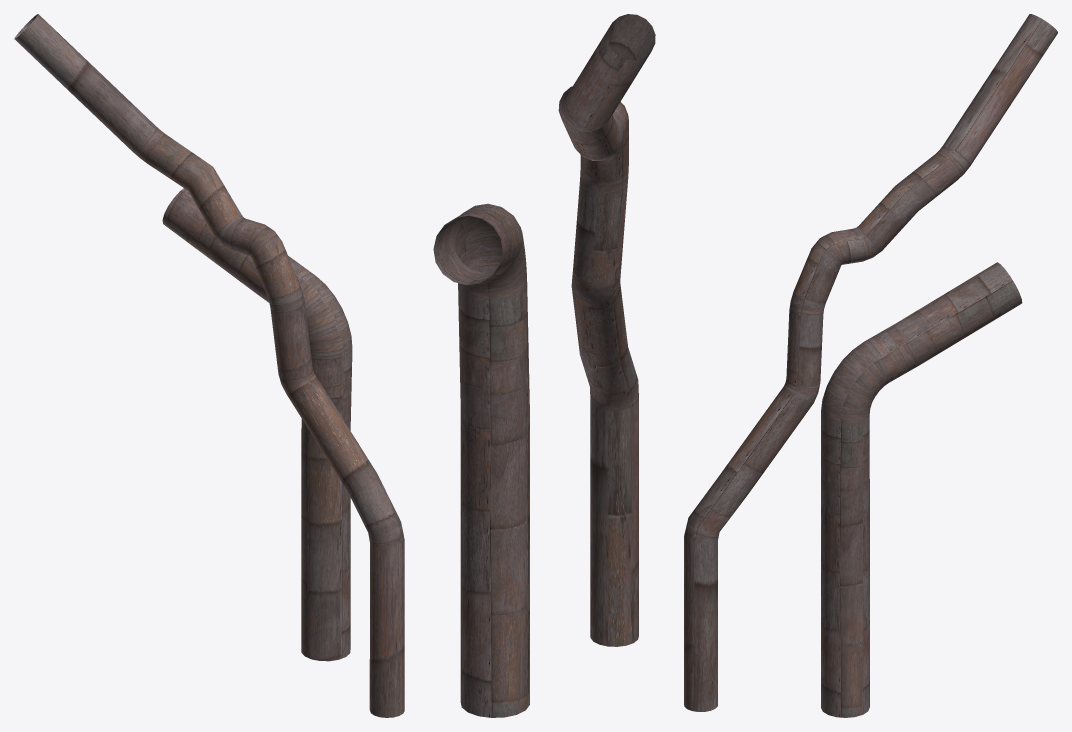
The model's file is SM_Bergstadt_Pipes_00.fbx.
3 views of the same model, side by side, from view 1: azimuth 30°, elevation 25°; view 2: azimuth 150°, elevation 25°; view 3: azimuth 270°, elevation 25° (orthographic). The views are drawn at different scales.
Parts seen in each view (by area): view 1: SM_Bergstadt_Pipes_00; view 2: SM_Bergstadt_Pipes_00; view 3: SM_Bergstadt_Pipes_00.
Part boxes in pixels (bbox=[...]): SM_Bergstadt_Pipes_00: bbox=[14, 14, 404, 717]; SM_Bergstadt_Pipes_00: bbox=[433, 14, 655, 717]; SM_Bergstadt_Pipes_00: bbox=[684, 14, 1057, 717].
Size of the model in its own units: 4527 by 11307 by 6350.
